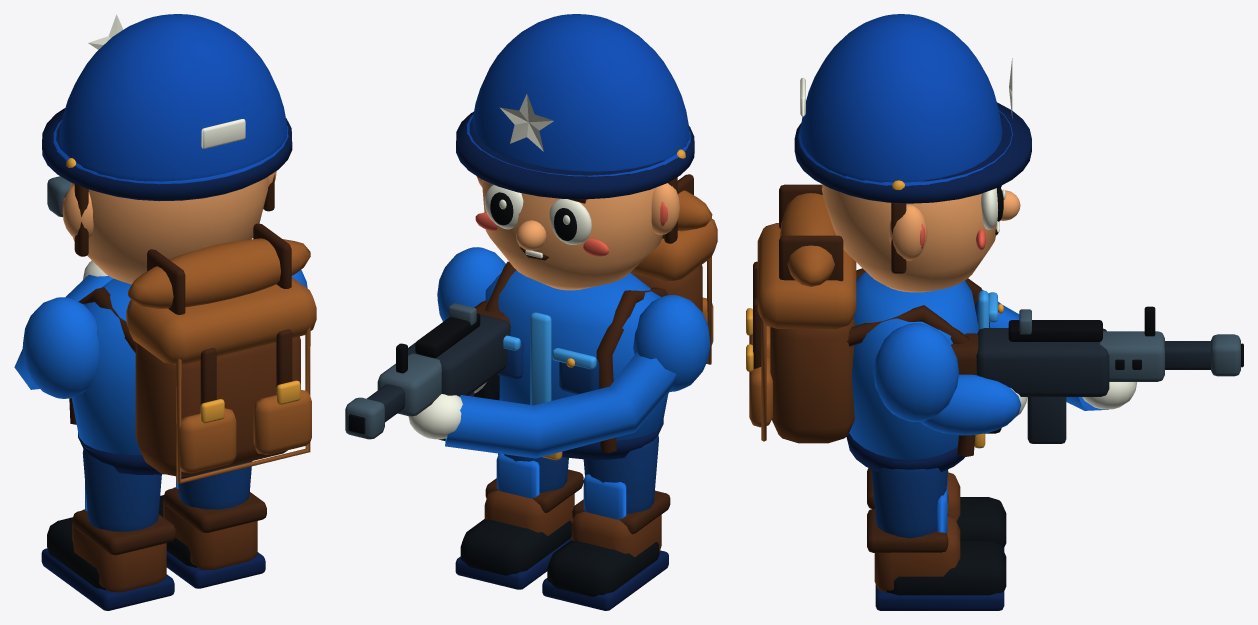
File: soldier.glb
3 views of the same model, side by side, from view 1: azimuth 30°, elevation 25°; view 2: azimuth 150°, elevation 25°; view 3: azimuth 270°, elevation 25° (orthographic). The views are drawn at different scales.
Visible parts, largest first — view 1: Body, Head, LegL, LegR, Arms; view 2: Head, Arms, Body, LegL, LegR; view 3: Head, Body, Arms, LegR, LegL.
Boxes of the visible parts, <box> form: Body: <box>69,223,316,484</box>; Head: <box>42,14,292,284</box>; LegL: <box>41,449,175,610</box>; LegR: <box>159,461,266,588</box>; Arms: <box>14,176,307,398</box>; Head: <box>456,14,694,290</box>; Arms: <box>345,247,710,458</box>; Body: <box>485,174,717,460</box>; LegL: <box>542,435,670,610</box>; LegR: <box>455,453,583,589</box>; Head: <box>794,14,1031,292</box>; Body: <box>746,184,1003,472</box>; Arms: <box>873,289,1243,443</box>; LegR: <box>867,467,1006,610</box>; LegL: <box>867,468,1006,551</box>.
Bounding box in the file's own units: 0.724 × 1.42 × 1.16.
1 material, 1 textured.
